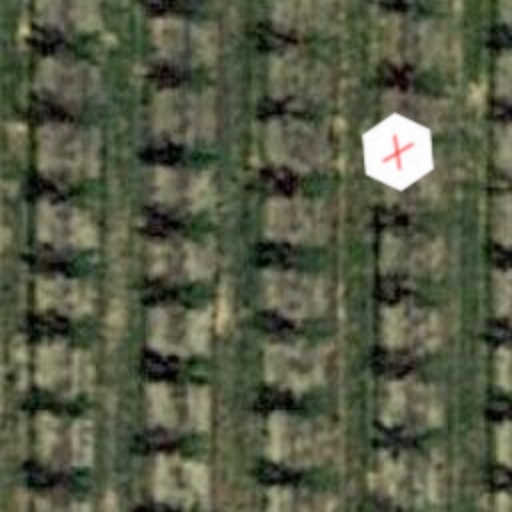hexagon: (344, 98, 452, 206)
